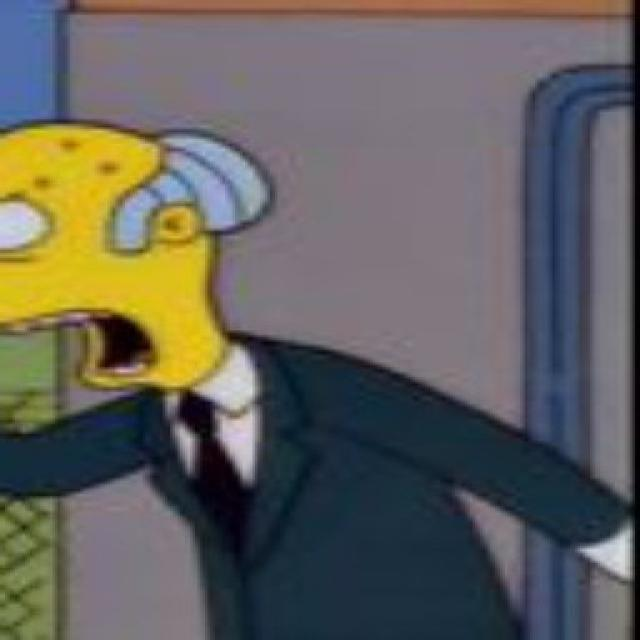Charles Montgomery Burns: (0, 118, 275, 395)
